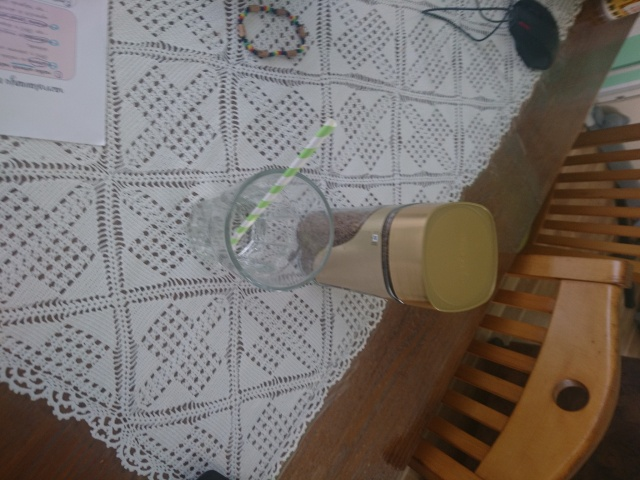Nescafe Gold 225g: (292, 200, 501, 316)
